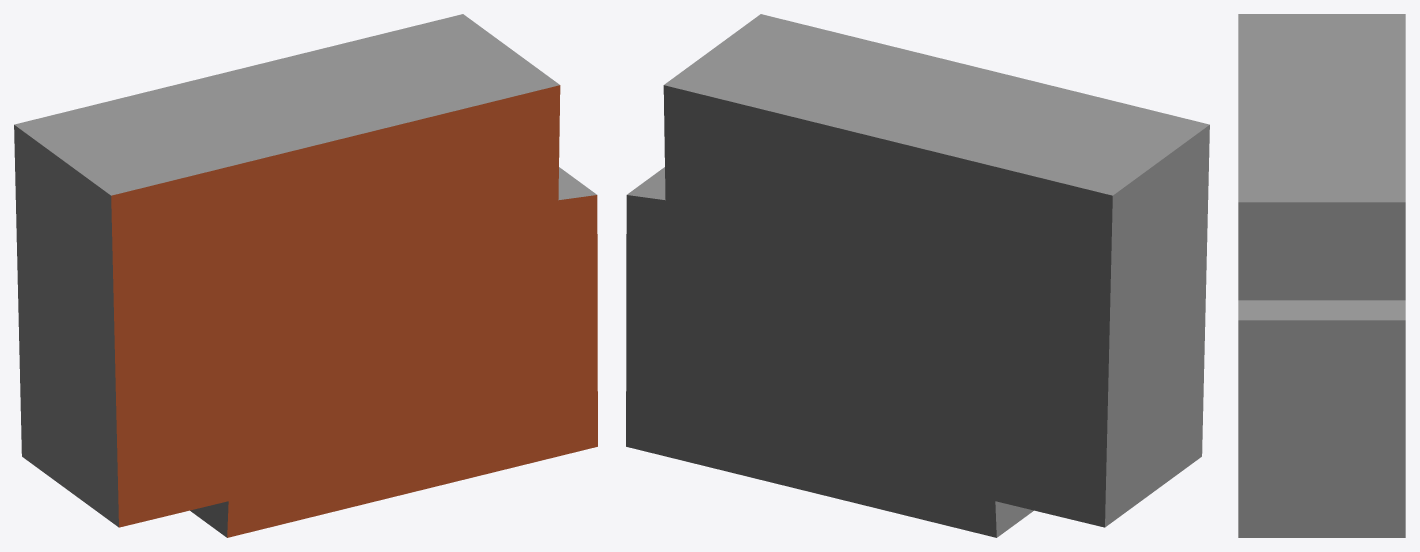
The model's file is construction_3210_assumed_A_Casa_h6m.obj.
3 renders of one model, left to right at view 1: azimuth 30°, elevation 25°; view 2: azimuth 150°, elevation 25°; view 3: azimuth 270°, elevation 25°, orthographic. The views are drawn at different scales.
Visible parts, largest first — view 1: construction_3210_assumed_A_Casa; view 2: construction_3210_assumed_A_Casa; view 3: construction_3210_assumed_A_Casa.
Part boxes in pixels (x1,y1,x2,y2): construction_3210_assumed_A_Casa: (14, 14, 597, 537); construction_3210_assumed_A_Casa: (626, 14, 1209, 537); construction_3210_assumed_A_Casa: (1238, 14, 1405, 537).
Size of the model in its own units: 17.36 by 12.66 by 6.
